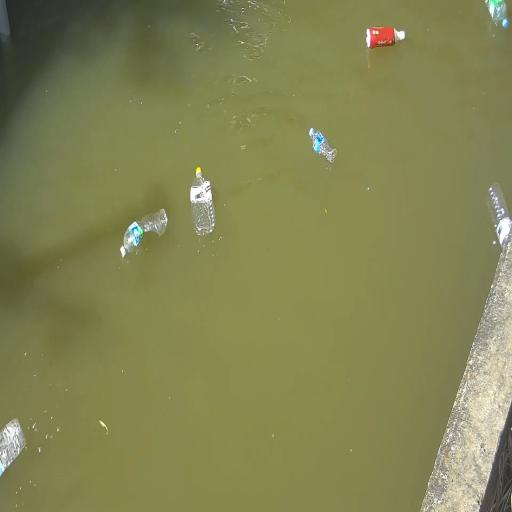plastic: (120, 209, 167, 257), (190, 167, 216, 237), (488, 183, 511, 248), (0, 419, 26, 475), (309, 128, 336, 163), (366, 27, 405, 49)
